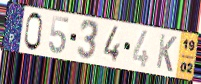0: (23, 11, 44, 52)
3: (76, 18, 100, 62)
4: (131, 29, 150, 70), (102, 26, 122, 64)
5: (48, 14, 70, 55)
K: (155, 32, 178, 74)
